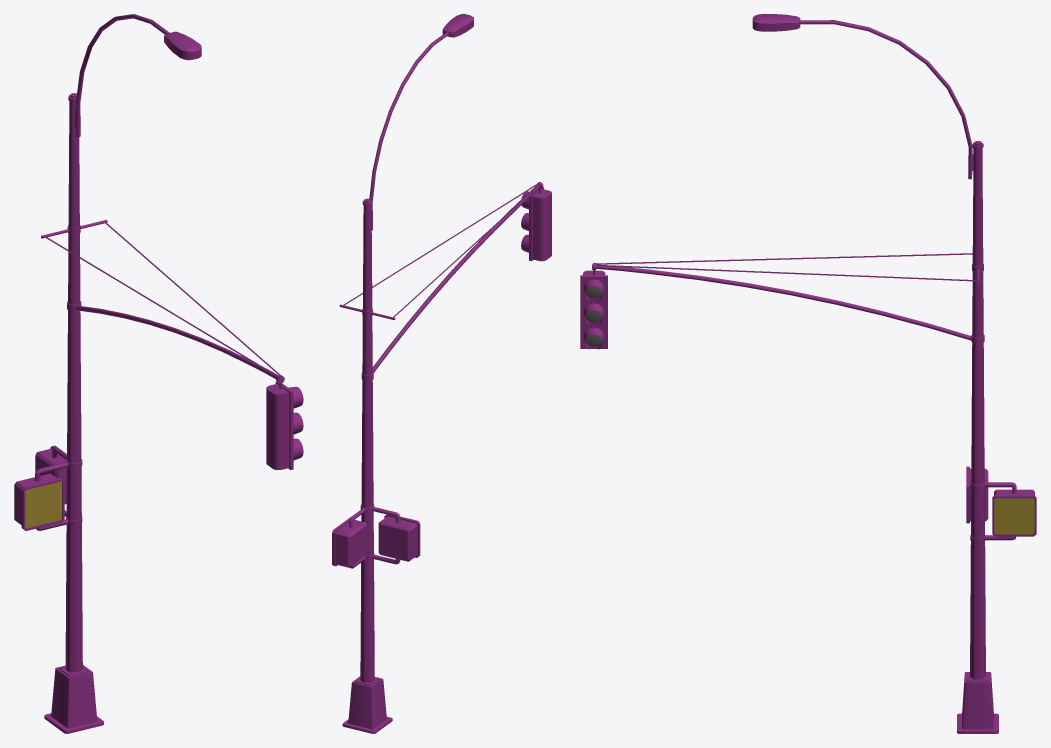
The model's file is mcp_traffic_lights_01_LOD_0.FBX.
3 renders of one model, left to right at view 1: azimuth 30°, elevation 25°; view 2: azimuth 150°, elevation 25°; view 3: azimuth 270°, elevation 25°, orthographic. The views are drawn at different scales.
Visible parts, largest first — view 1: mcp_traffic_lights_01, Object223, mcp_traffic_lights_01_light; view 2: mcp_traffic_lights_01, Object223; view 3: mcp_traffic_lights_01, Object223, mcp_traffic_lights_01_light.
Boxes of the visible parts, x1=… form: mcp_traffic_lights_01: x1=41, y1=14, x2=303, y2=733; Object223: x1=14, y1=445, x2=68, y2=530; mcp_traffic_lights_01_light: x1=25, y1=481, x2=61, y2=528; mcp_traffic_lights_01: x1=339, y1=14, x2=551, y2=733; Object223: x1=332, y1=507, x2=420, y2=568; mcp_traffic_lights_01: x1=580, y1=14, x2=998, y2=733; Object223: x1=966, y1=466, x2=1036, y2=540; mcp_traffic_lights_01_light: x1=994, y1=498, x2=1034, y2=534.
Size of the model in its own units: 149 by 1206 by 705.
